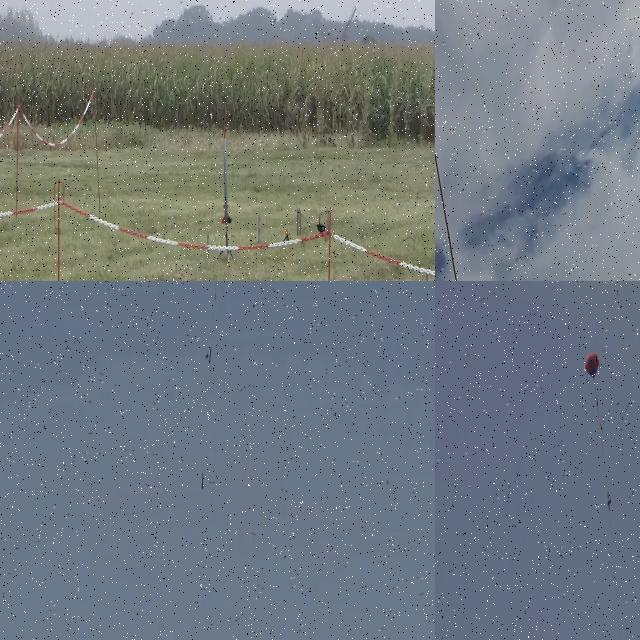Rocket: (221, 124, 232, 227), (201, 473, 204, 489)
